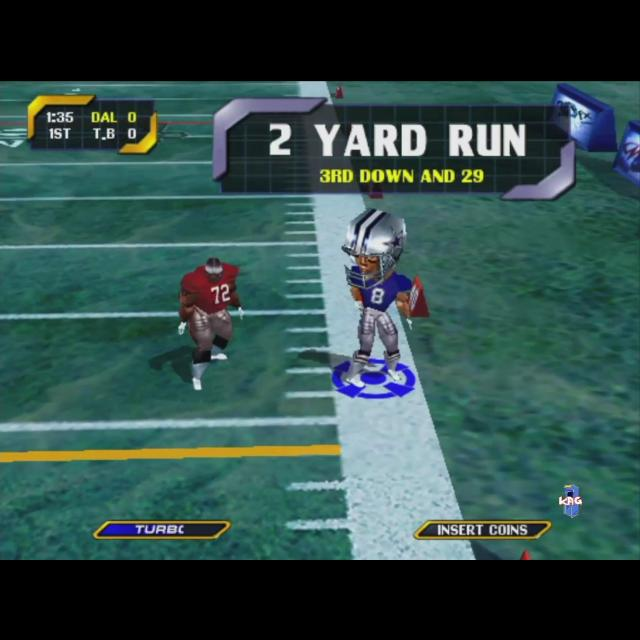player: (341, 208, 413, 386), (178, 256, 245, 389)
